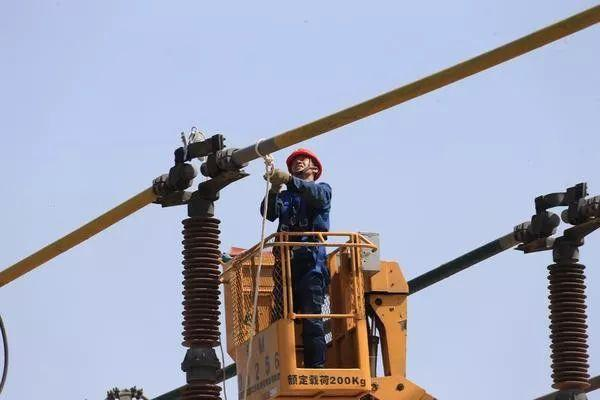helmet: (288, 150, 326, 175)
